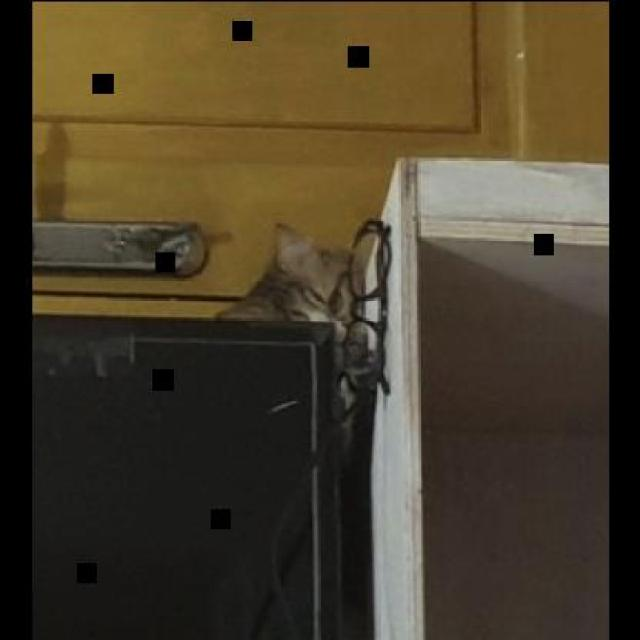unauthorized: (214, 220, 386, 426)
